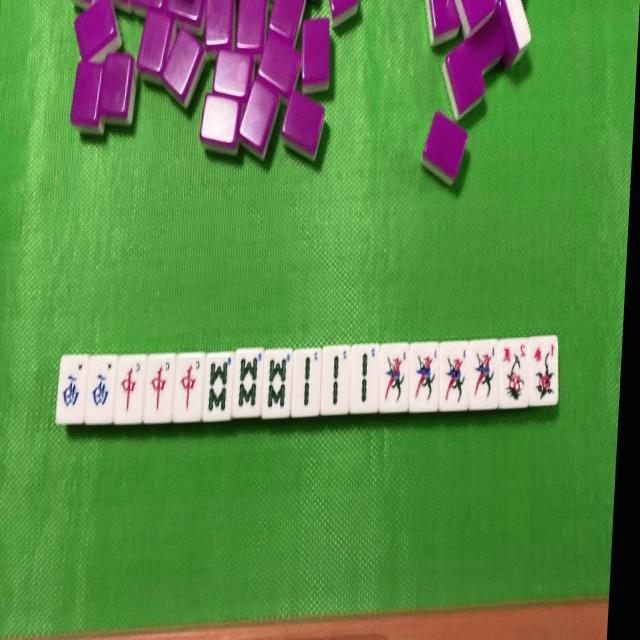ff1: (530, 339, 557, 402)
ff2: (499, 339, 530, 402)
s1: (442, 341, 469, 405), (412, 345, 440, 404), (381, 346, 409, 403), (470, 342, 498, 398)
s2: (296, 350, 320, 410), (353, 344, 377, 404), (326, 346, 348, 407)
s8: (264, 349, 292, 412), (205, 354, 233, 414), (235, 351, 262, 408)
west: (59, 357, 88, 416), (89, 356, 116, 418)
zhong: (115, 356, 144, 421), (146, 356, 174, 421), (175, 354, 203, 418)
